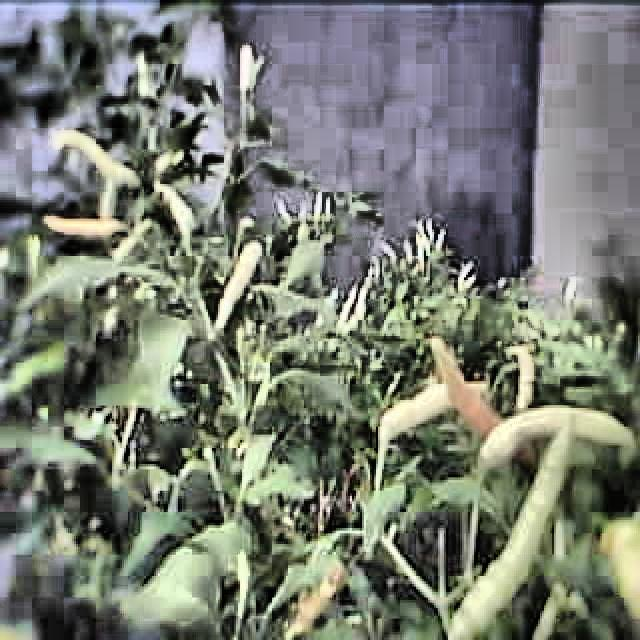Cabai: (469, 420, 560, 634), (421, 339, 522, 431), (203, 232, 270, 334), (219, 32, 287, 110), (80, 128, 160, 191), (44, 203, 139, 252)
